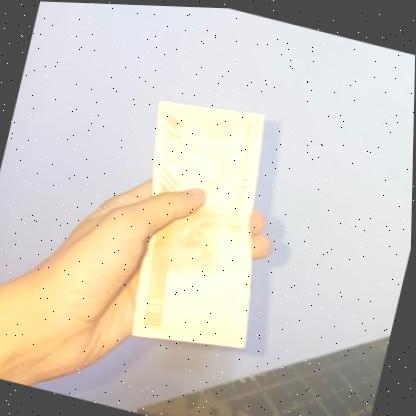twenty-back-vef: (105, 84, 297, 361)
